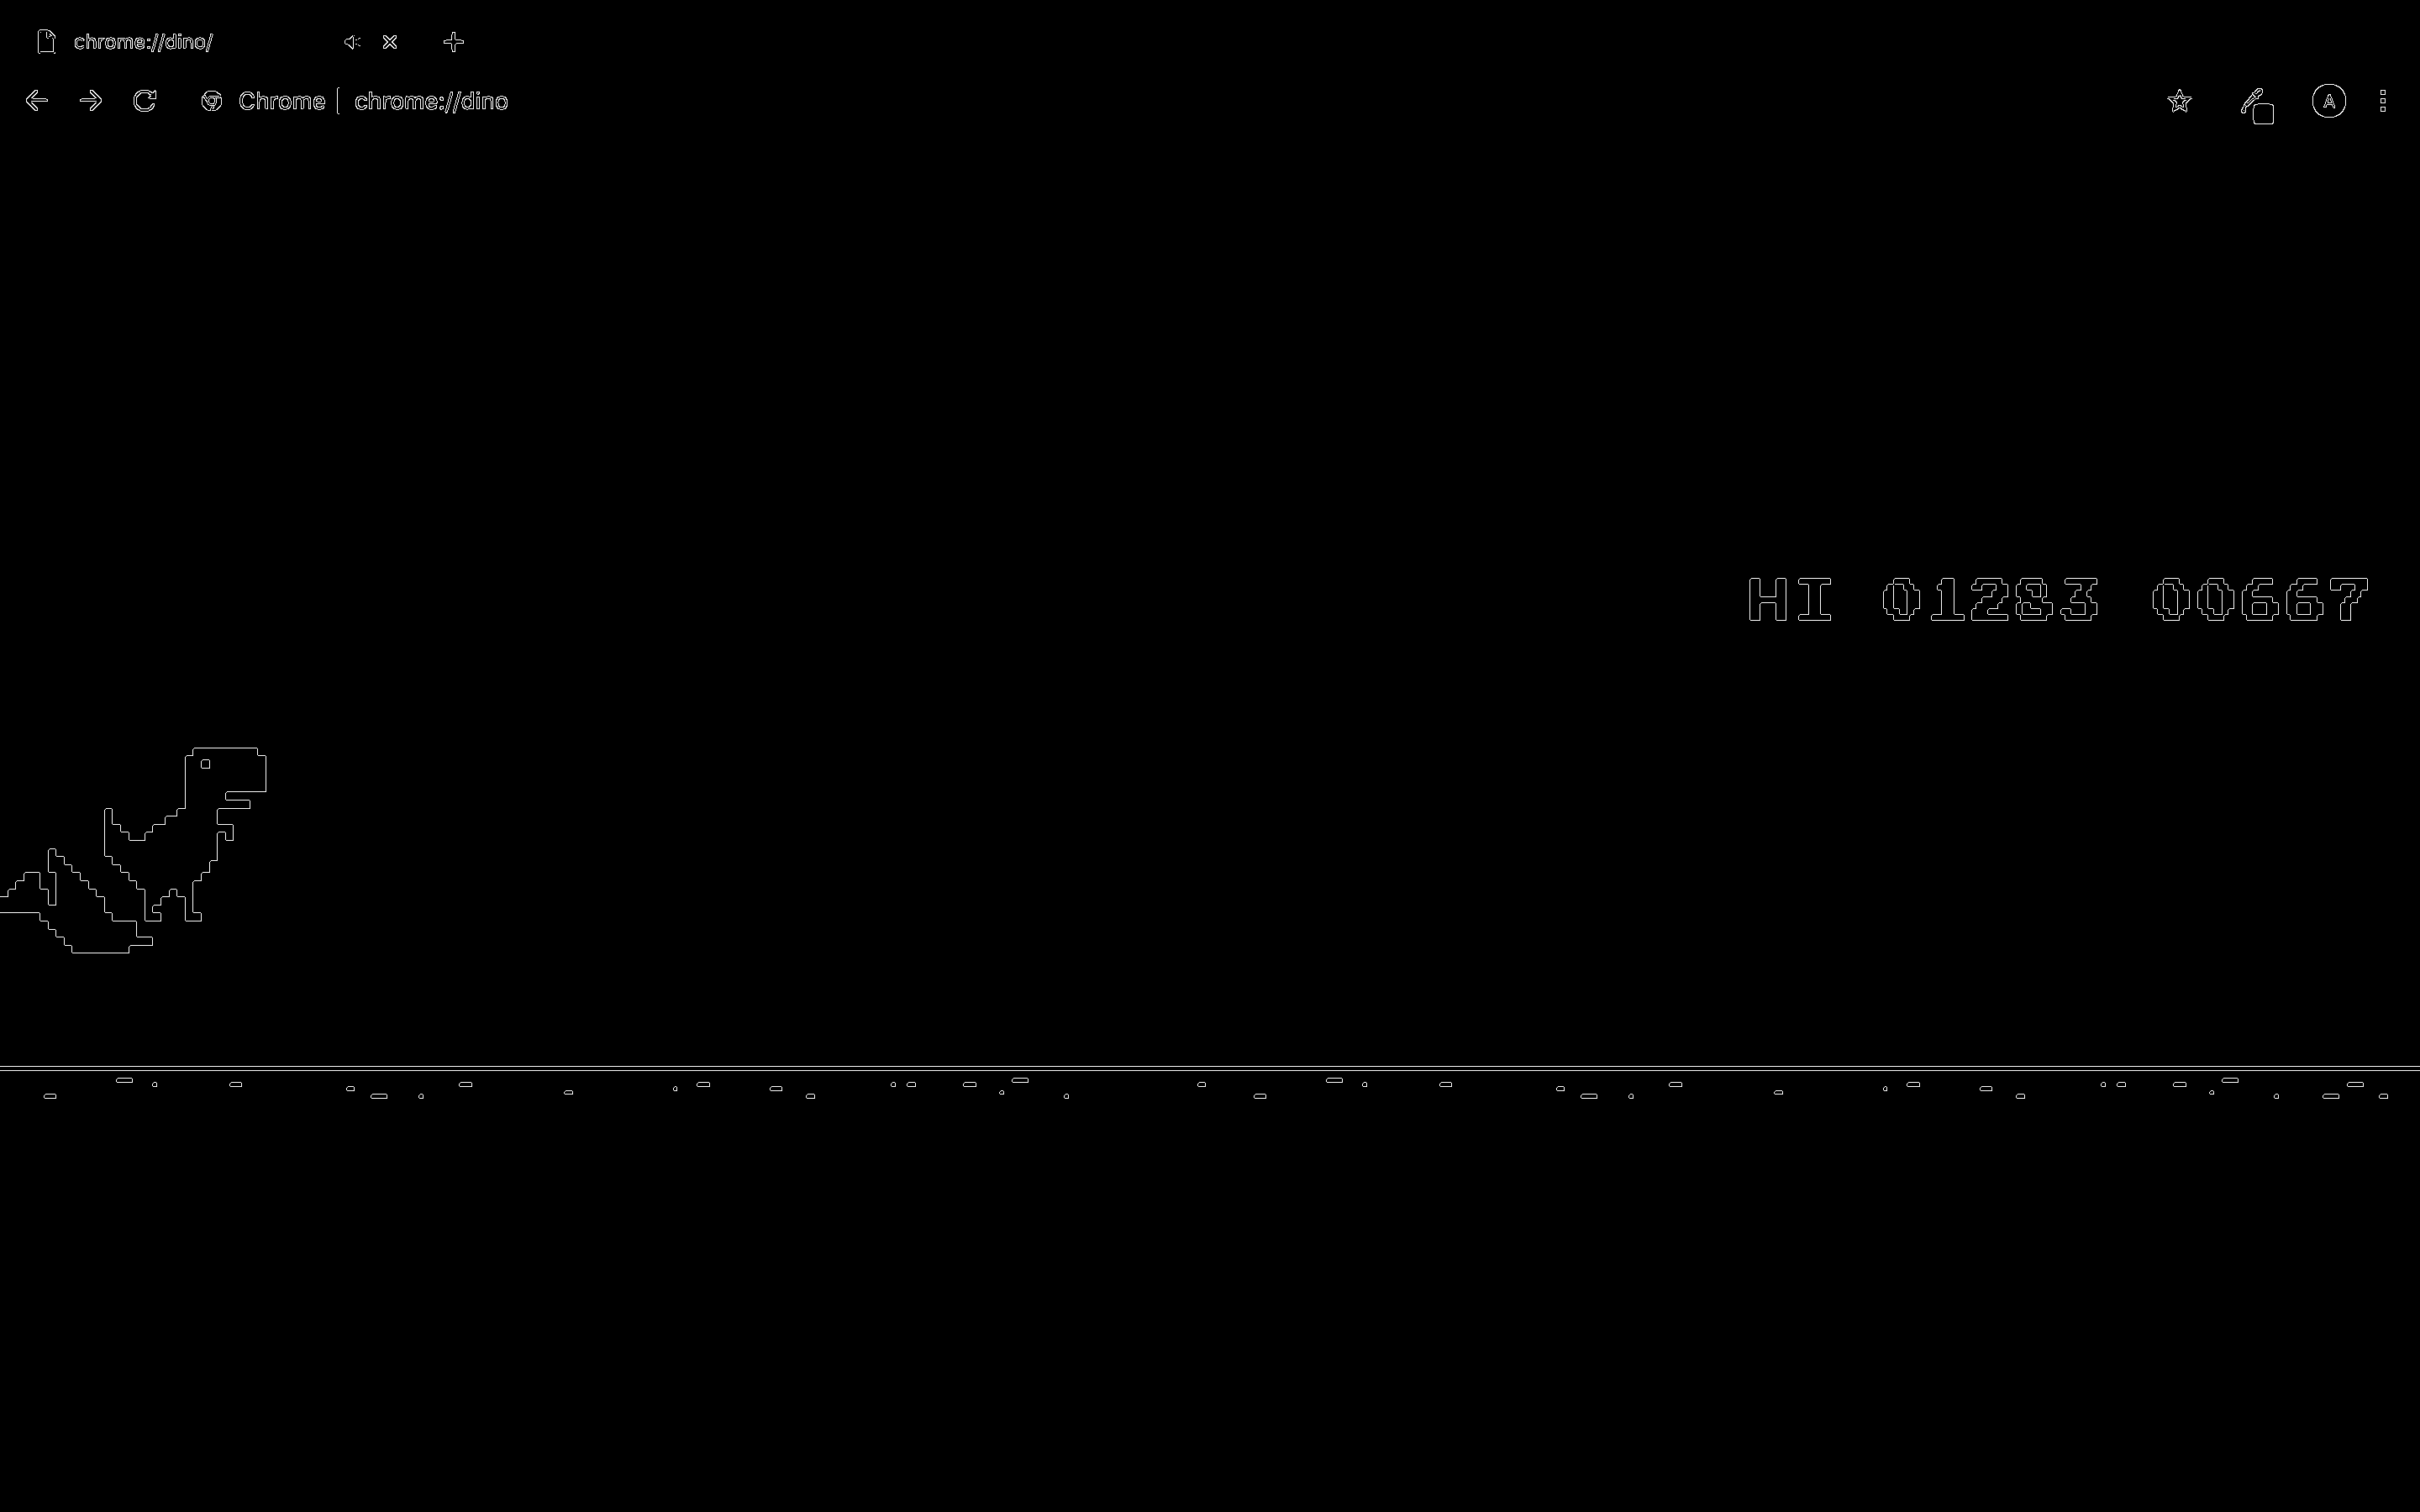Bird: (12, 850, 155, 972)
Dino: (103, 740, 268, 921)
